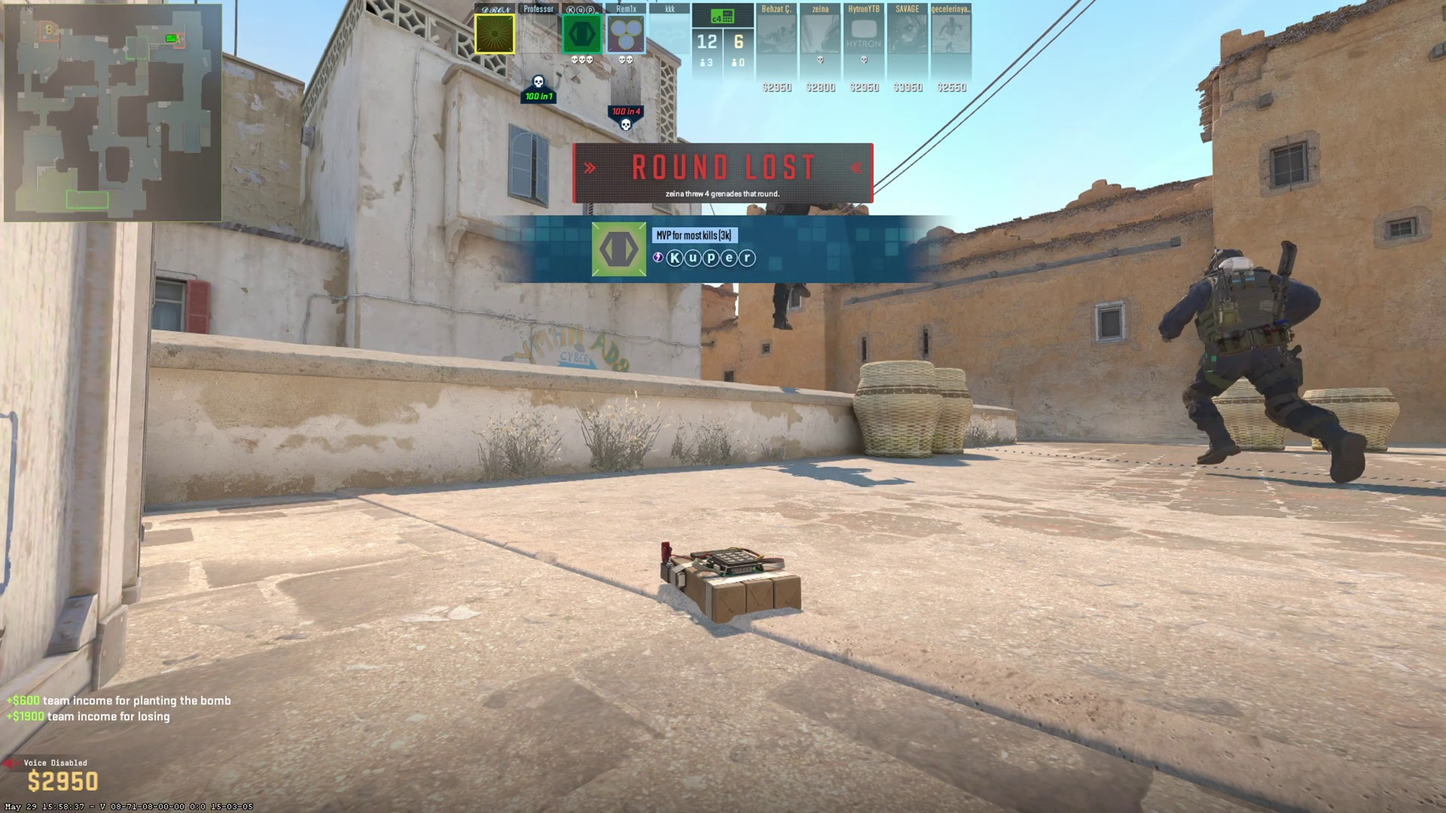CT: (1176, 249, 1360, 485)
